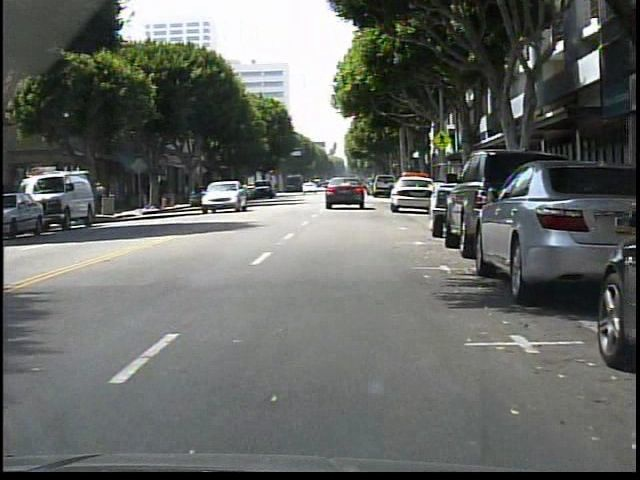person: (91, 177, 109, 216)
